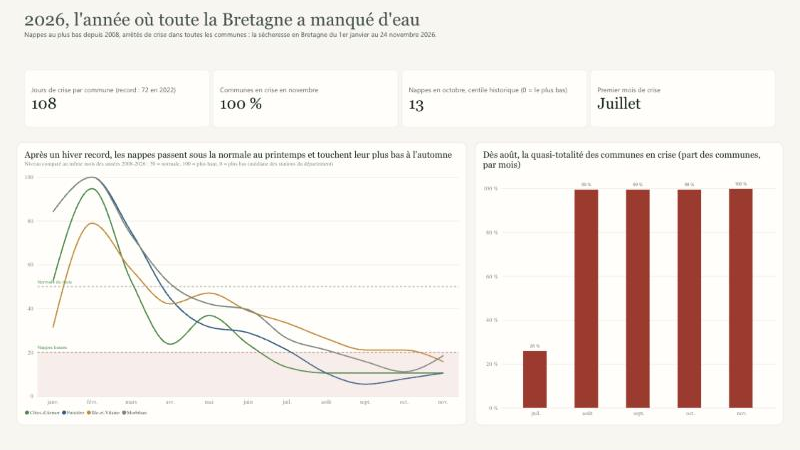

Layout of this report page (visuals, bound fields, positions):
{"tool":"powerbi","page":{"name":"De la nappe à l'arrêté","canvas":[1920,1080],"ordinal":0},"visuals":[{"type":"textbox","box":[40,24,1400,130],"z":0},{"type":"cardVisual","fields":{"Data":["dim_commune.Jours de crise 2026","dim_commune.Communes en crise en novembre 2026","dim_commune.Nappes en octobre 2026 (centile)","dim_commune.Premier mois de crise 2026"]},"box":[40,170,1840,170],"z":1000},{"type":"lineChart","title":"Après un hiver record, les nappes passent sous la normale au printemps et touchent leur plus bas à l''automne","fields":{"Category":["dim_mois.Mois 2026"],"Series":["dim_departement.departement"],"Y":["dim_commune.Nappes 2026 (centile)"]},"box":[40,360,1080,680],"z":2000},{"type":"clusteredColumnChart","title":"Dès août, la quasi-totalité des communes en crise (part des communes, par mois)","fields":{"Category":["dim_mois.Mois 2026"],"Y":["dim_commune.Part des communes en crise 2026"]},"box":[1140,360,740,680],"z":3000}]}

Visuals, with their boxes in screenshot pixels (x1, y1, x2, y2), scaled from the page's 1920x1080 canvas onto the 800x450 screenshot:
textbox: bbox=[17, 10, 600, 64]
cardVisual - dim_commune.Jours de crise 2026 x dim_commune.Communes en crise en novembre 2026: bbox=[17, 71, 783, 142]
"Après un hiver record, les nappes passent sous la normale au printemps et touchent leur plus bas à l''automne" lineChart: bbox=[17, 150, 467, 433]
"Dès août, la quasi-totalité des communes en crise (part des communes, par mois)" clusteredColumnChart: bbox=[475, 150, 783, 433]
